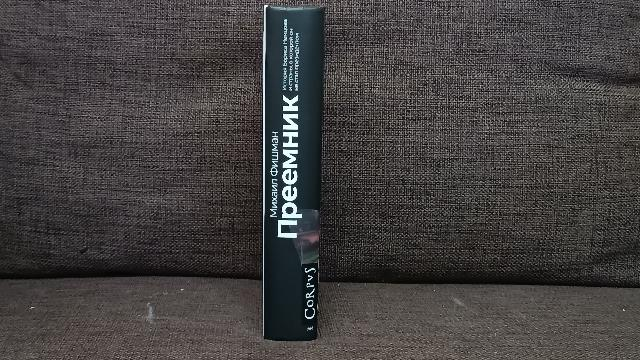book-s-spine: (265, 5, 319, 341)
